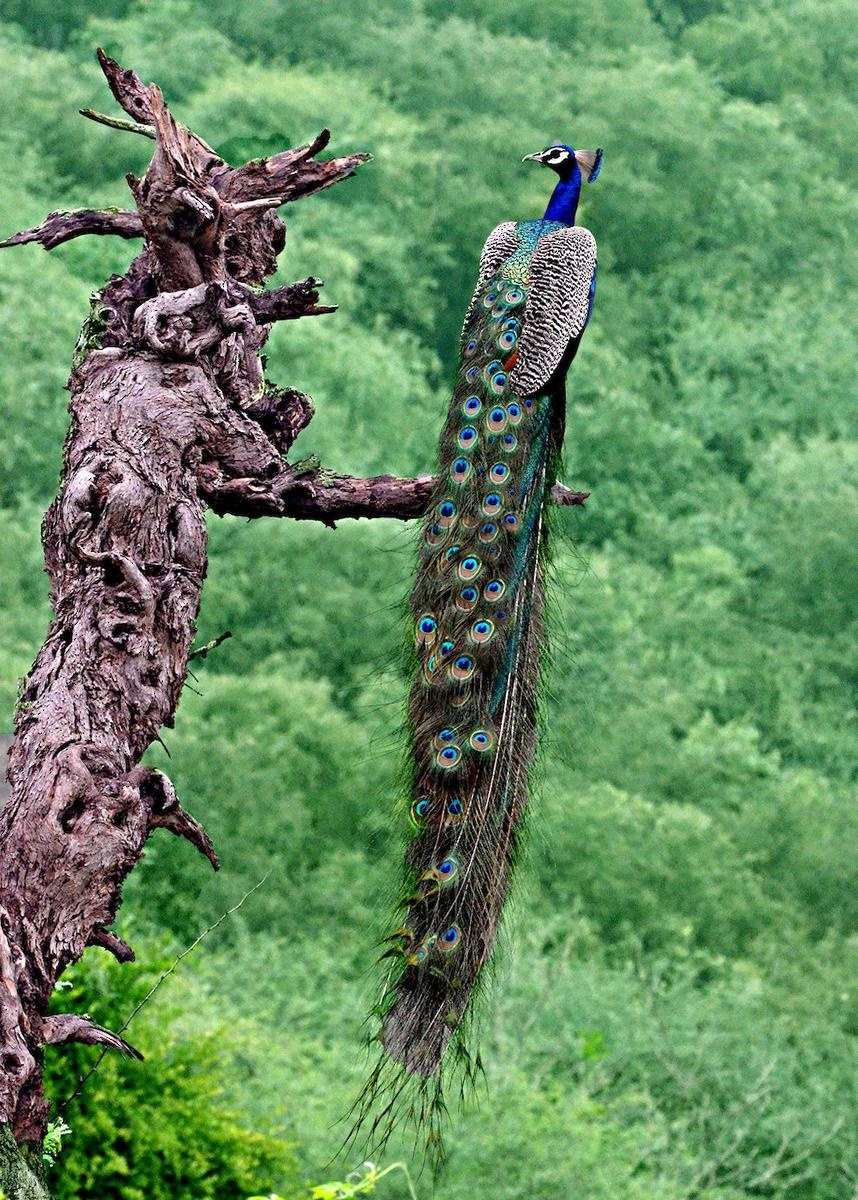peacock: (355, 102, 619, 1050)
